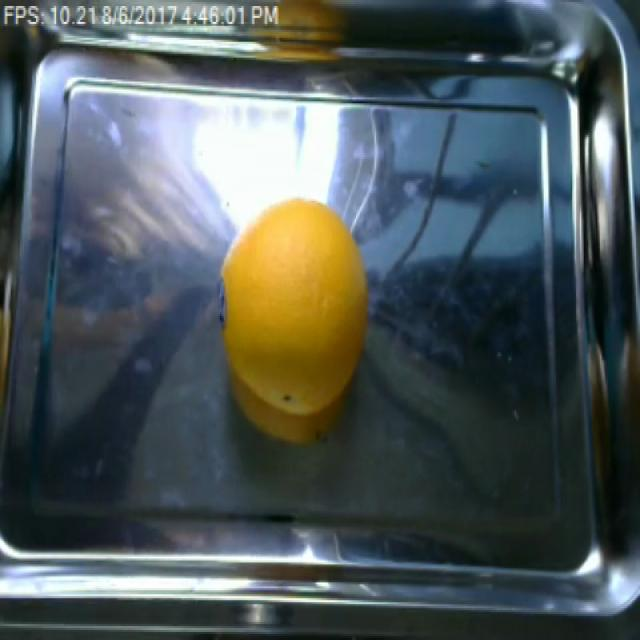Fruit: (215, 191, 373, 447)
